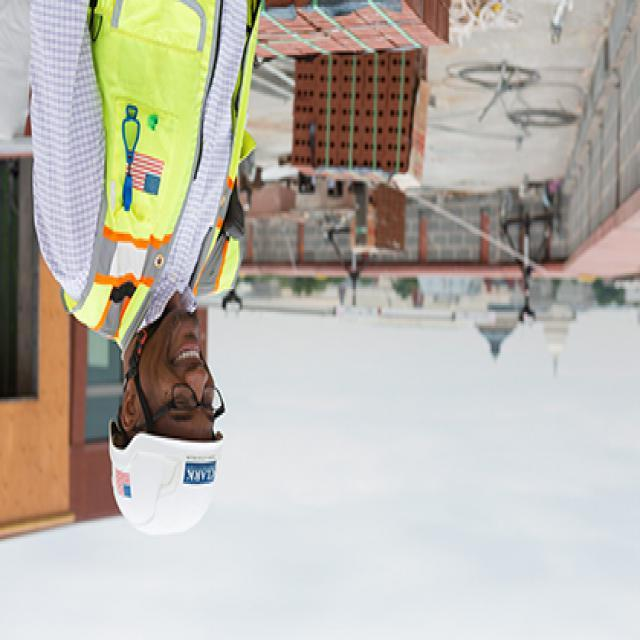safetyhelmet: (100, 366, 228, 539)
